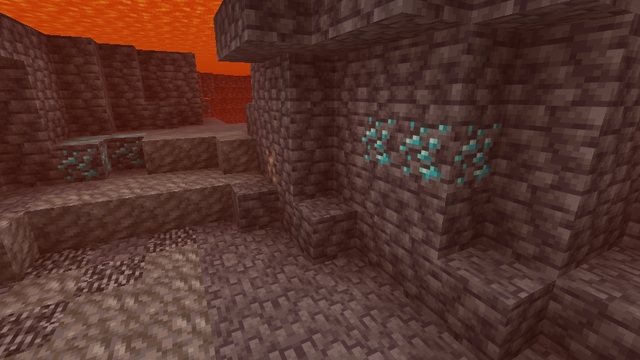diamond: (362, 112, 505, 185), (49, 131, 149, 179)
